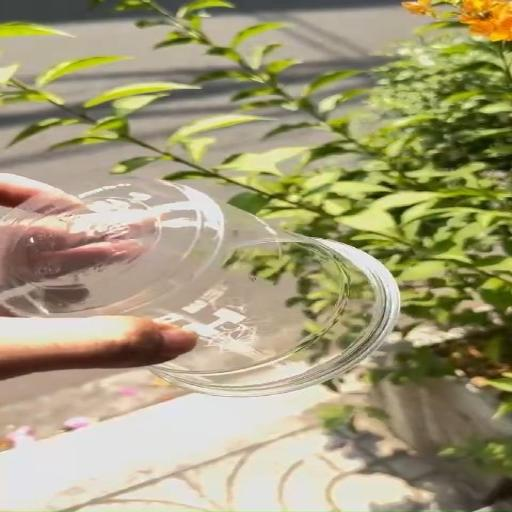ly_giay: (0, 177, 400, 396)
